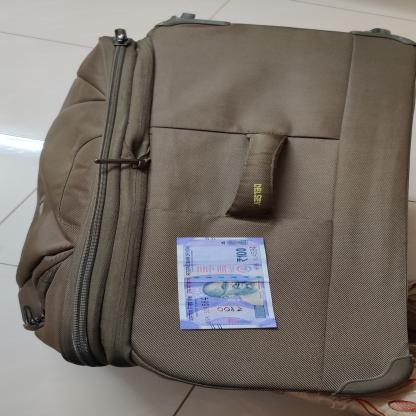New100Front: (176, 235, 282, 332)
